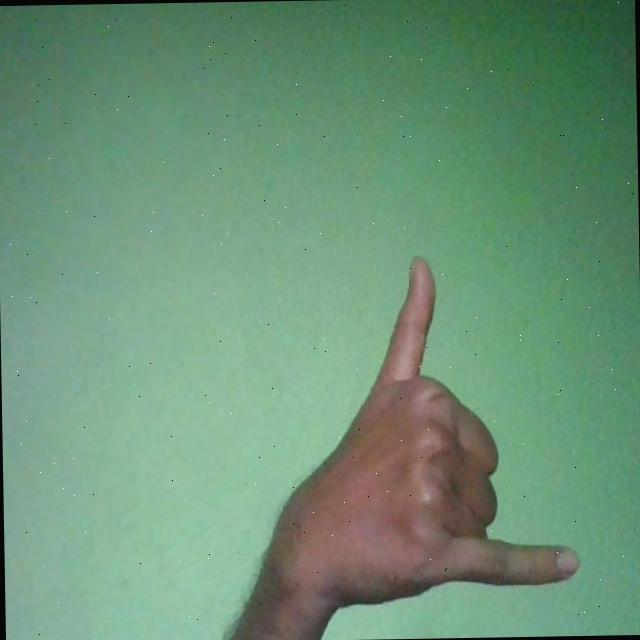Call Me: (261, 255, 580, 608)
